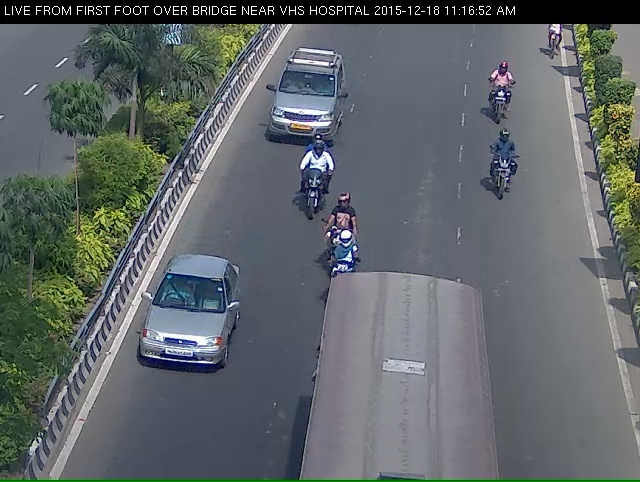Bus: (315, 291, 491, 482)
Car: (129, 273, 226, 406), (265, 54, 342, 153)
Person: (486, 137, 522, 209), (319, 206, 351, 280), (482, 69, 521, 128), (293, 155, 324, 229), (325, 251, 353, 310)
